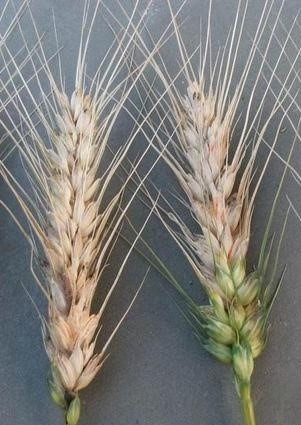Wheat scab: (152, 70, 279, 384), (25, 78, 122, 410)
